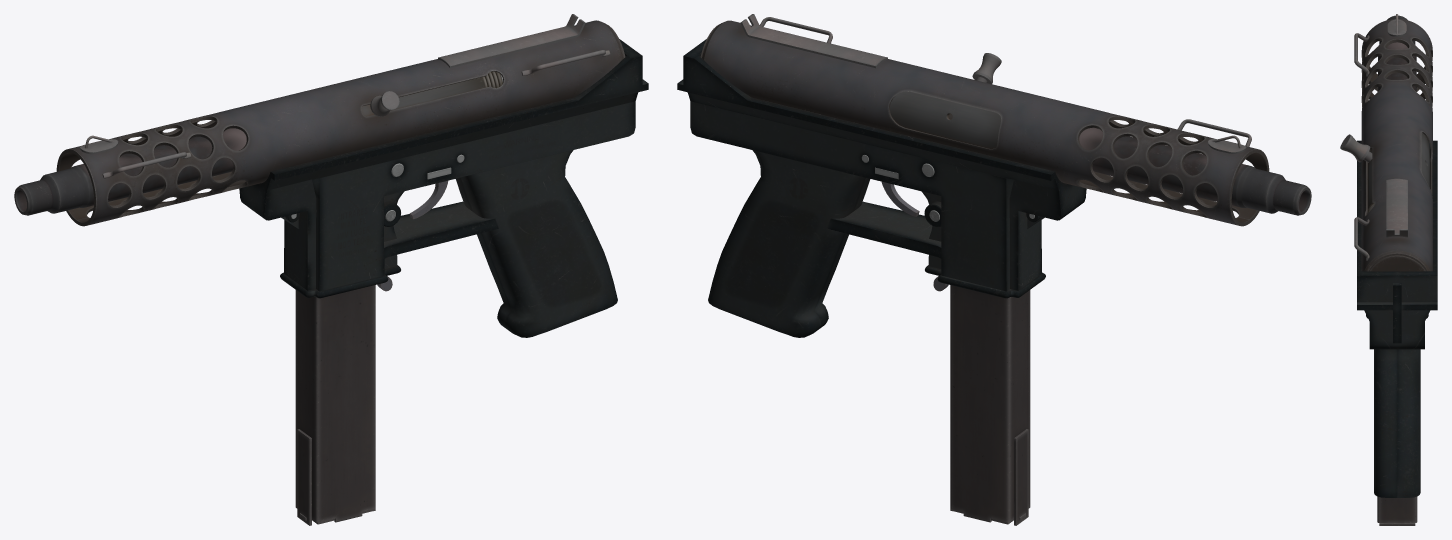
3 views of the same model, side by side, from view 1: azimuth 30°, elevation 25°; view 2: azimuth 150°, elevation 25°; view 3: azimuth 270°, elevation 25° (orthographic). The views are drawn at different scales.
Visible parts, largest first — view 1: body_low005; view 2: body_low005; view 3: body_low005.
Part boxes in pixels (x1,y1,x2,y2): body_low005: (14, 14, 648, 525); body_low005: (677, 14, 1311, 525); body_low005: (1340, 14, 1437, 525).
Size of the model in its own units: 0.31 by 0.2142 by 0.048.
1 material, 1 textured.
